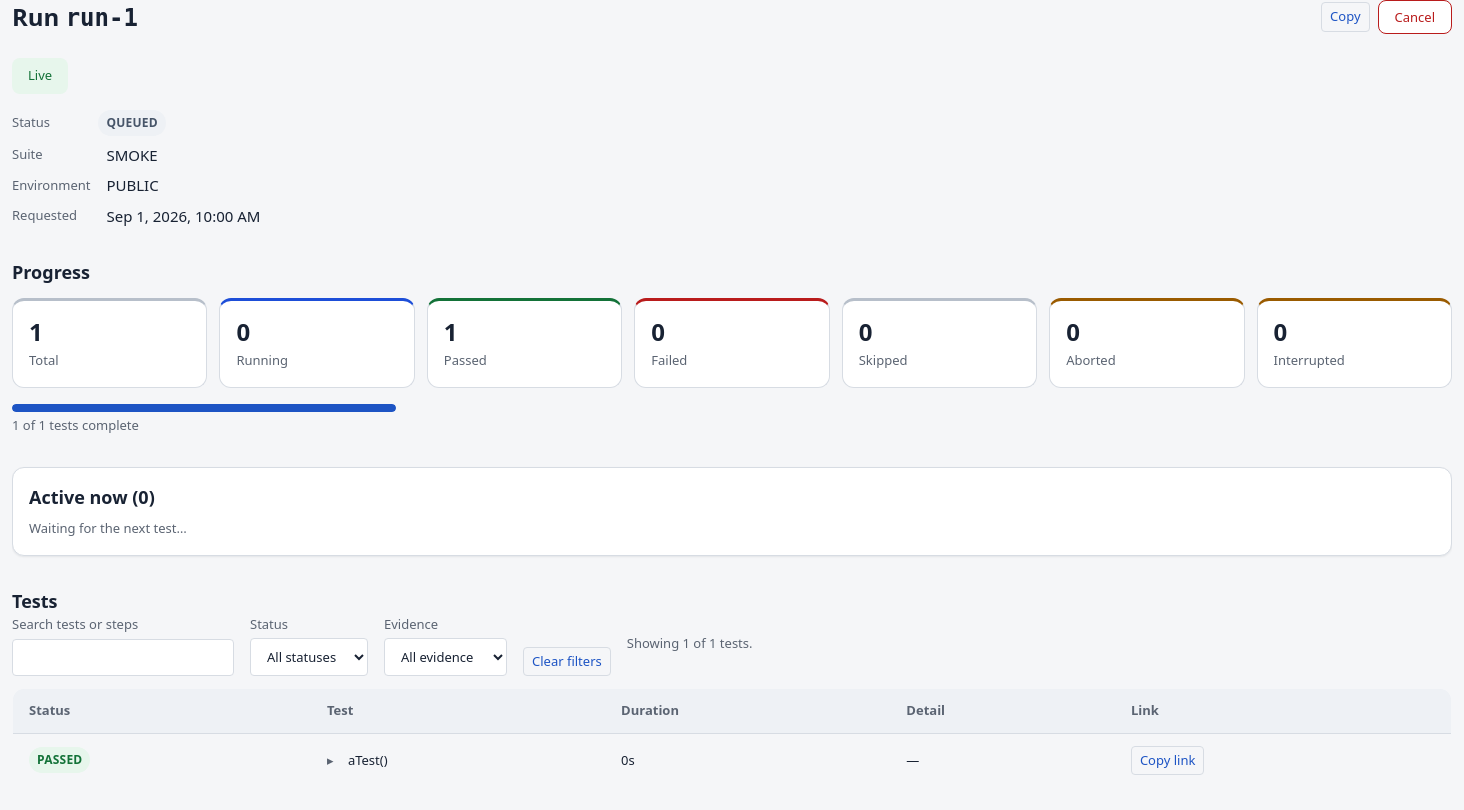
Test case: RunDetailsPage › shows each step's own duration once it finishes
The width and height of the screenshot is (1464, 810).
Expected: the text "QUEUED" is shown, [98,110,166,136]
Click the button "▸ aTest()".
click(357, 761)  # box [327,751,388,770]
(page scrolled)
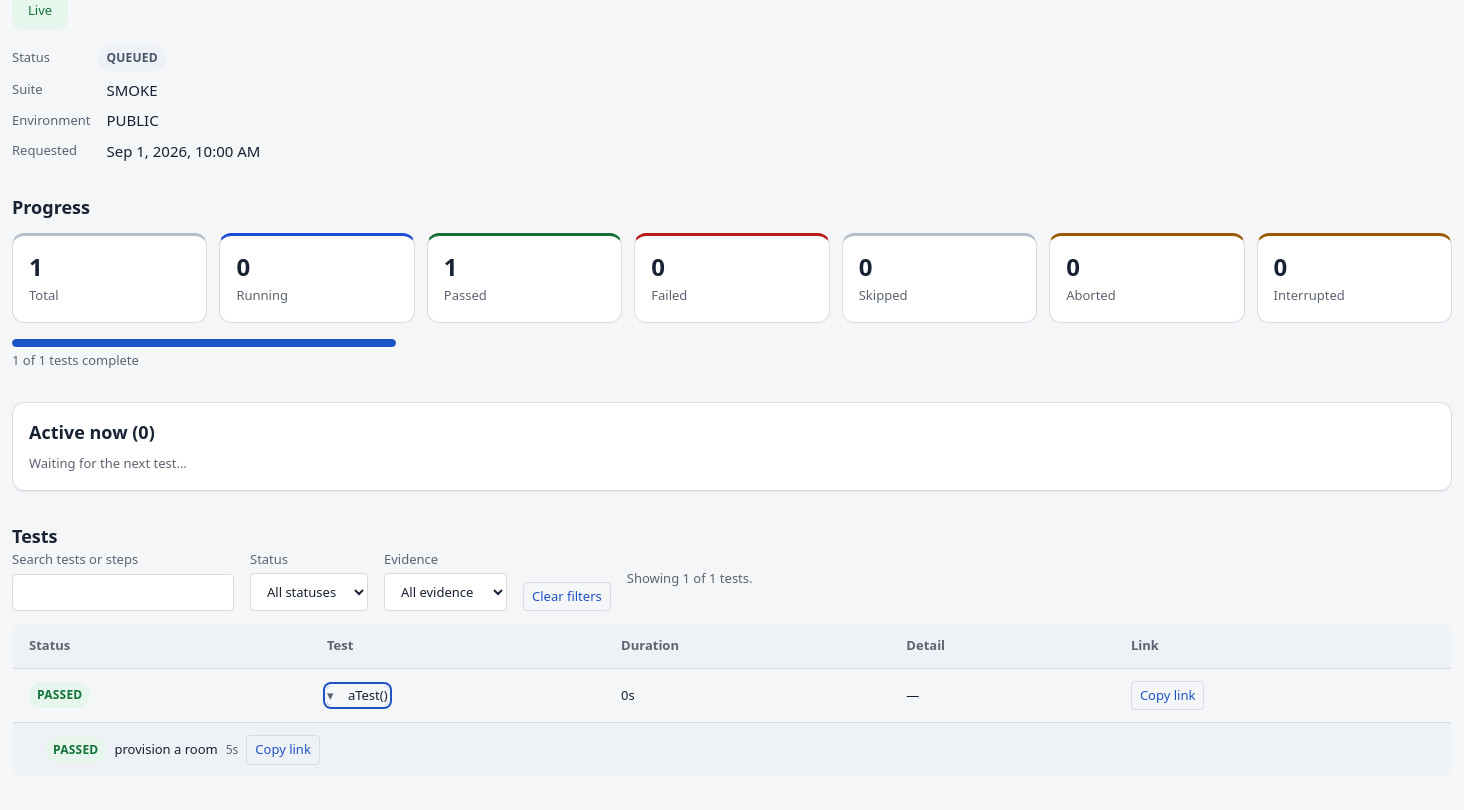
Expected: the text "provision a room" is shown, [114,740,218,760]
Expected: the text "5s" is shown, [226,741,238,759]
